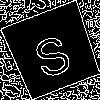S: (27, 25, 75, 80)
